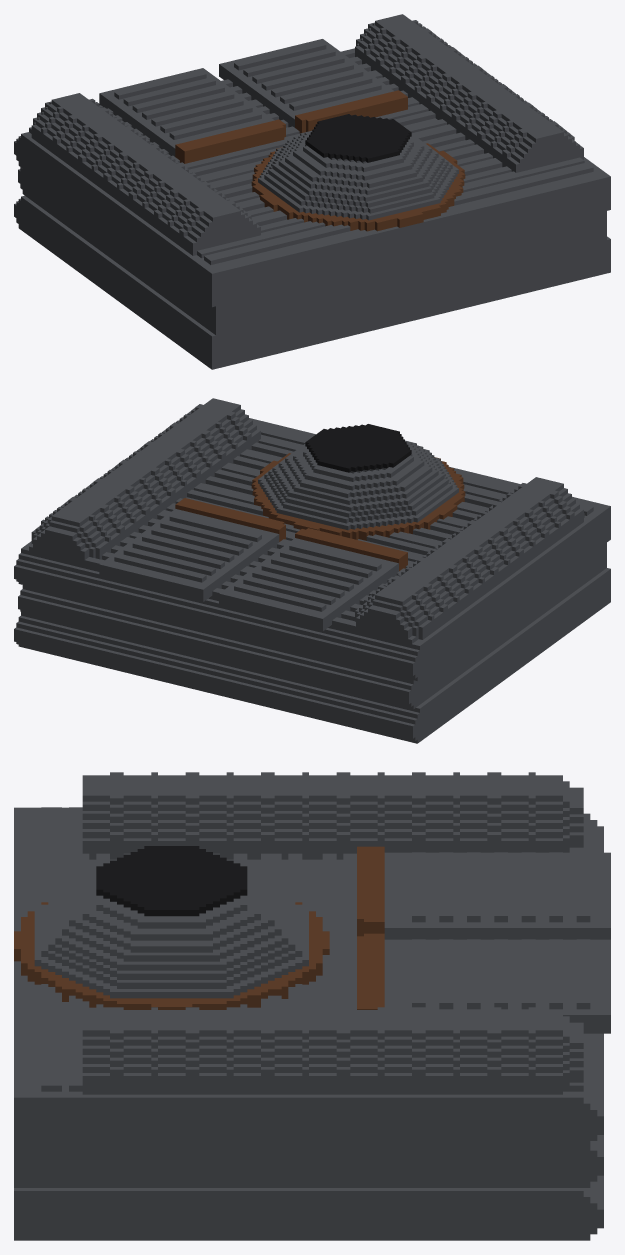
File: ch_chainmail_suit.glb
The picture shows the model from 3 angles, top to bottom: view 1: azimuth 30°, elevation 25°; view 2: azimuth 150°, elevation 25°; view 3: azimuth 270°, elevation 25°; orthographic projection. The views are drawn at different scales.
Parts seen in each view (by area): view 1: ch_chainmail_suit:compound; view 2: ch_chainmail_suit:compound; view 3: ch_chainmail_suit:compound.
Boxes of the visible parts, box(x1,y1,x2,y2) form: ch_chainmail_suit:compound: box(14, 14, 610, 369); ch_chainmail_suit:compound: box(14, 398, 610, 743); ch_chainmail_suit:compound: box(14, 772, 610, 1240).
Size of the model in its own units: 0.4 by 0.14 by 0.348.
